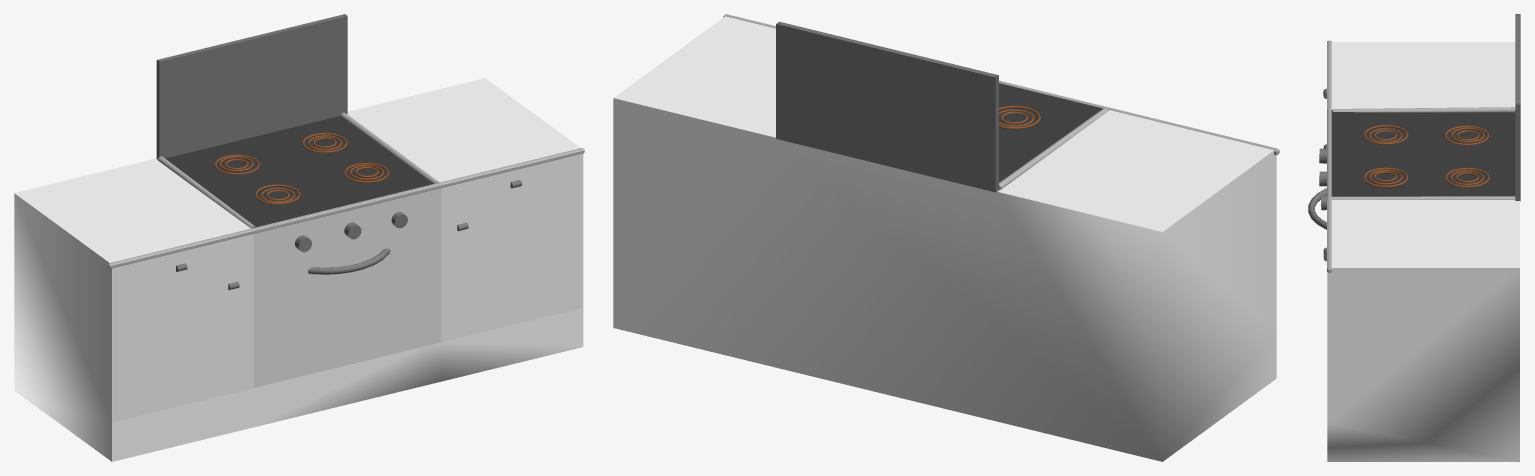
The model's file is Stove.fbx.
The picture shows the model from 3 angles, left to right: view 1: azimuth 30°, elevation 25°; view 2: azimuth 150°, elevation 25°; view 3: azimuth 270°, elevation 25°; orthographic projection. The views are drawn at different scales.
Visible parts, largest first — view 1: Base, Back, Rail, Torus, Handle; view 2: Base, Back, Rail; view 3: Base, Rail, Torus, Back, Handle.
Boxes of the visible parts, <box> form: Base: <box>14,78,583,461</box>; Back: <box>156,14,347,158</box>; Rail: <box>107,112,584,268</box>; Torus: <box>214,133,389,204</box>; Handle: <box>176,180,521,289</box>; Base: <box>613,16,1276,461</box>; Back: <box>776,21,998,192</box>; Rail: <box>723,14,1279,189</box>; Base: <box>1327,42,1519,461</box>; Rail: <box>1327,40,1515,272</box>; Torus: <box>1363,125,1489,187</box>; Back: <box>1515,14,1520,201</box>; Handle: <box>1308,88,1326,261</box>.
Bounding box in the file's own units: 50.5 × 29.94 × 19.86.
5 materials, 5 textured.
